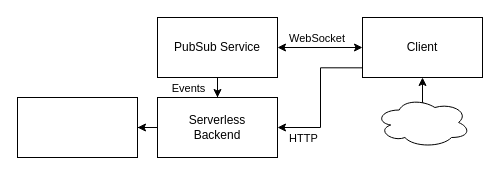
The diagram is 500 pixels wide and 175 high, and some of its shapes have lost their labels. The centre of each missing label's shape, as x and y in pixels:
CDN: (422,122)
Serverless Storage: (77,127)
